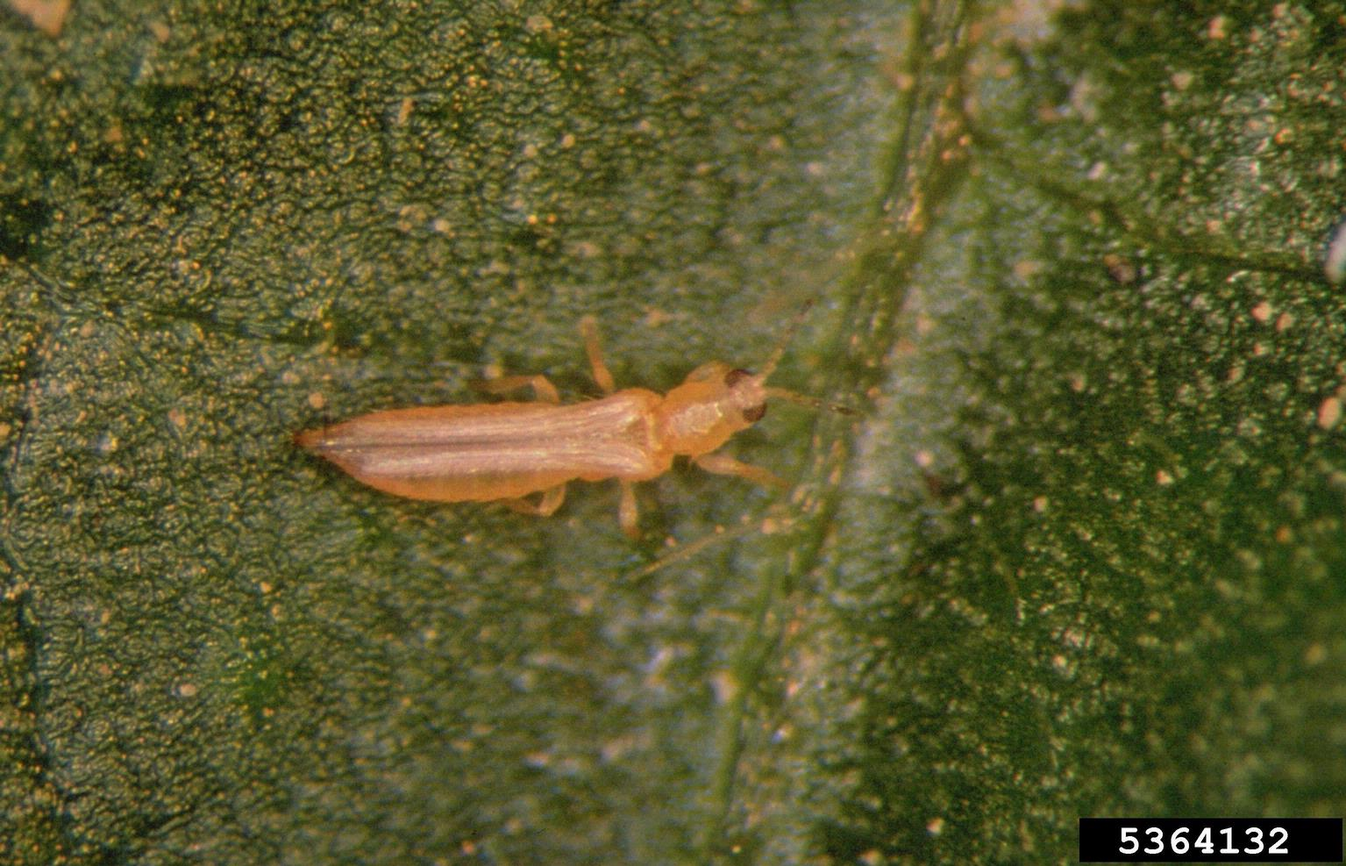Thripidae: (288, 295, 854, 543)
